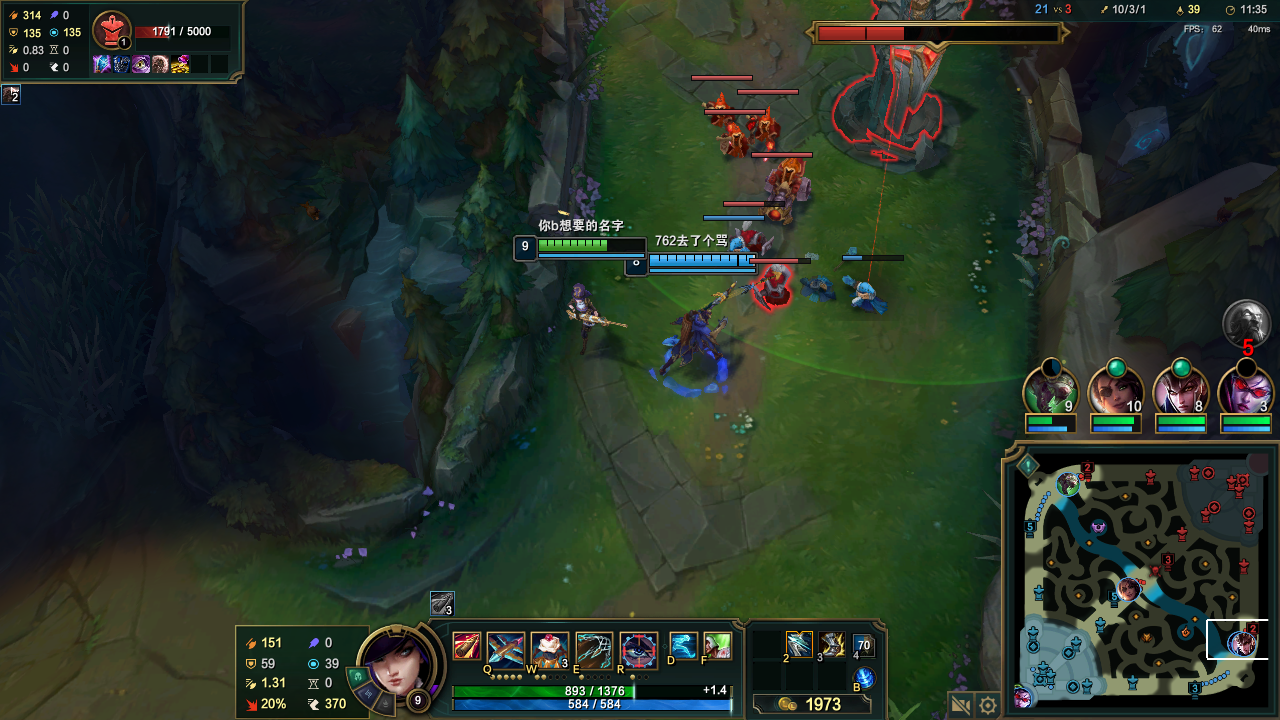DFFYT: (816, 24, 986, 168)
DFXB: (763, 165, 815, 225), (752, 263, 797, 310), (742, 219, 765, 244), (719, 131, 744, 152), (707, 94, 729, 113), (756, 117, 777, 135)
WFXB: (849, 281, 886, 315), (726, 232, 747, 265)
